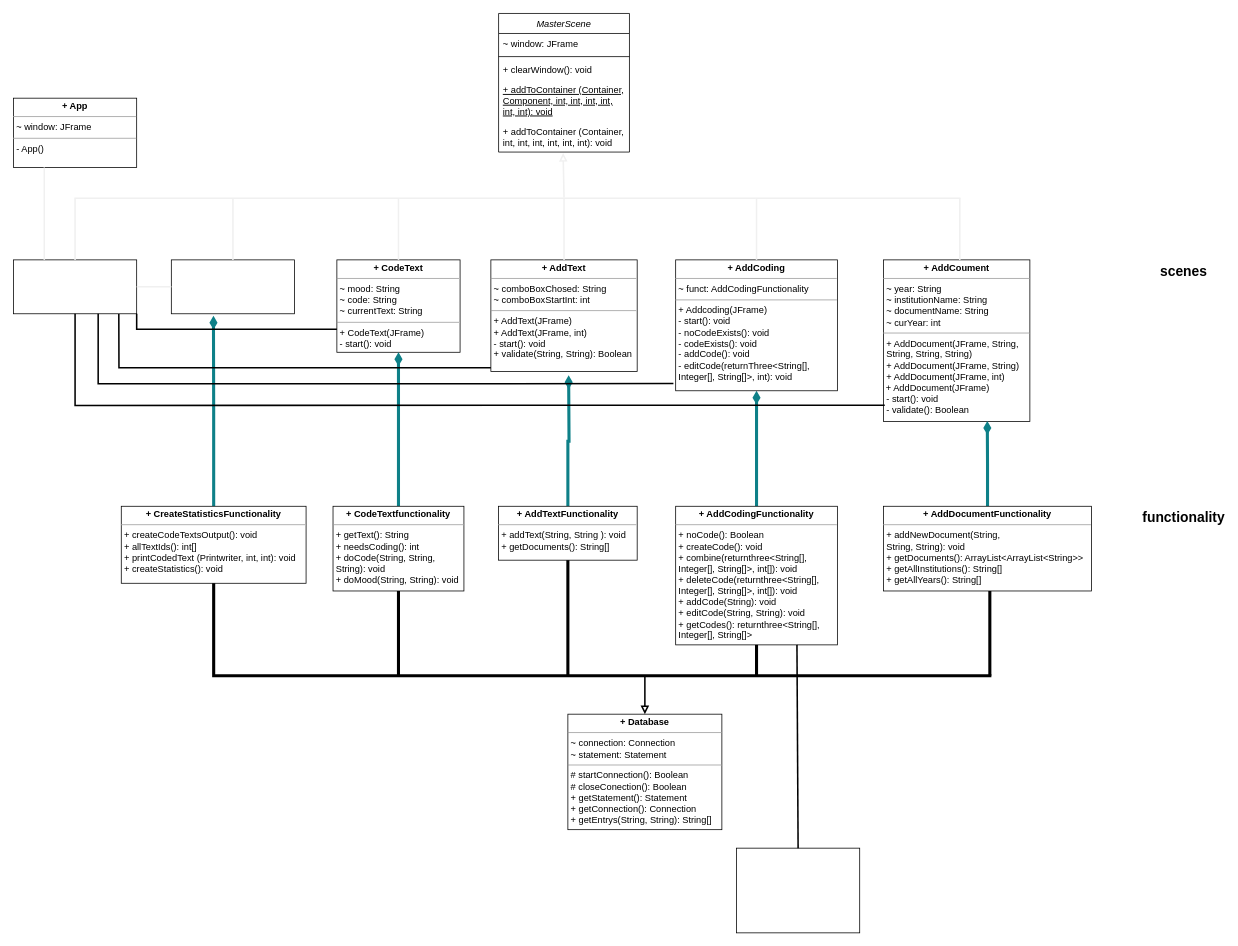
Image size: 1238x946. Some labels were removed from this diagram. The centre of each missing label's shape, as x and y in pixels:
+ CreateStatistics + CreateStatistics(JFrame) - start(): void: point 233,286
+ IndexScene + IndexScene(JFrame) - main(): void: point 75,286
+ returnThree<j,v,k> + first: j + second: v + third: k + returnThree(j,v,k): point 798,890
